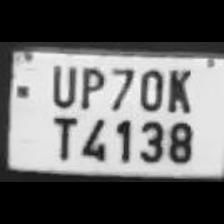0: (134, 62, 164, 110)
1: (108, 112, 134, 162)
3: (134, 114, 164, 162)
4: (78, 112, 108, 160)
7: (104, 64, 134, 110)
8: (164, 116, 194, 164)
K: (162, 64, 194, 114)
P: (75, 62, 105, 110)
T: (46, 111, 78, 161)
U: (45, 61, 76, 107)
